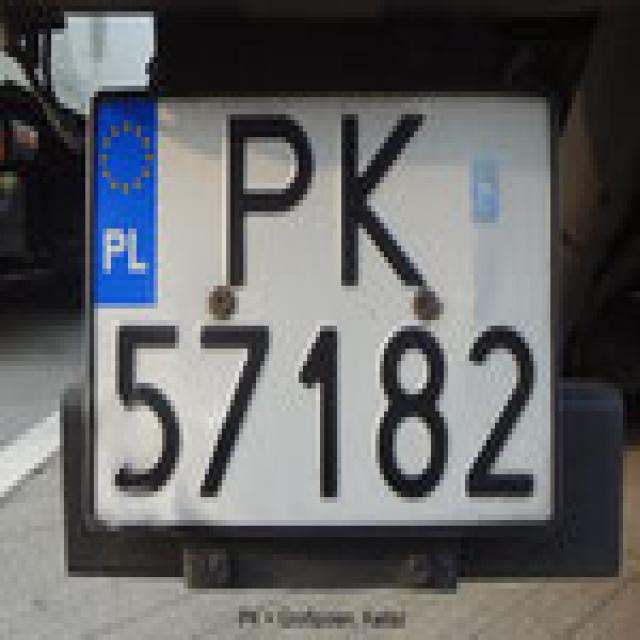pl_license_plate: (90, 92, 550, 514)
